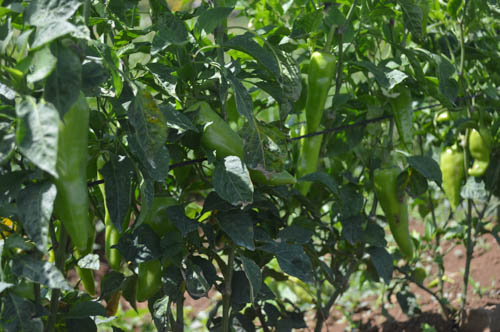ChiliPepper: (193, 105, 293, 188), (52, 98, 91, 254), (134, 199, 181, 300), (94, 158, 131, 272), (373, 167, 414, 256), (305, 54, 336, 145), (296, 125, 323, 198), (388, 87, 416, 149), (70, 233, 97, 295), (439, 150, 465, 208), (468, 129, 490, 181)
